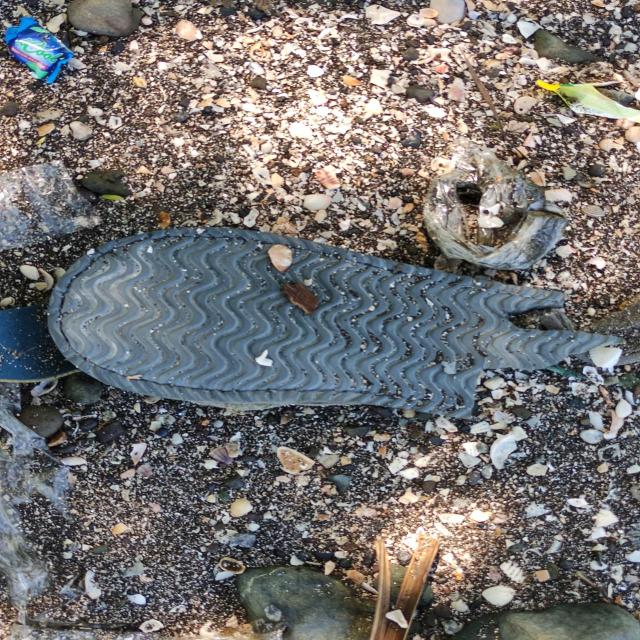plastic_waste: (4, 17, 77, 86)
rubber_waste: (44, 226, 490, 425)
